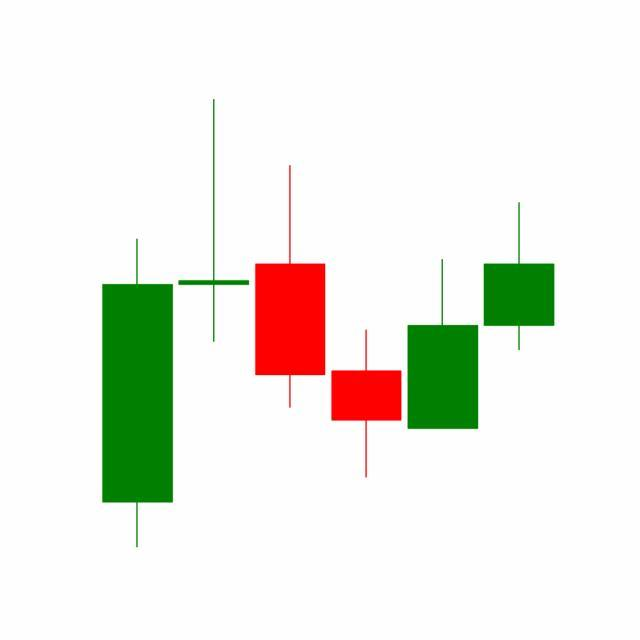Three Outside Up-Down: (326, 199, 555, 481)
